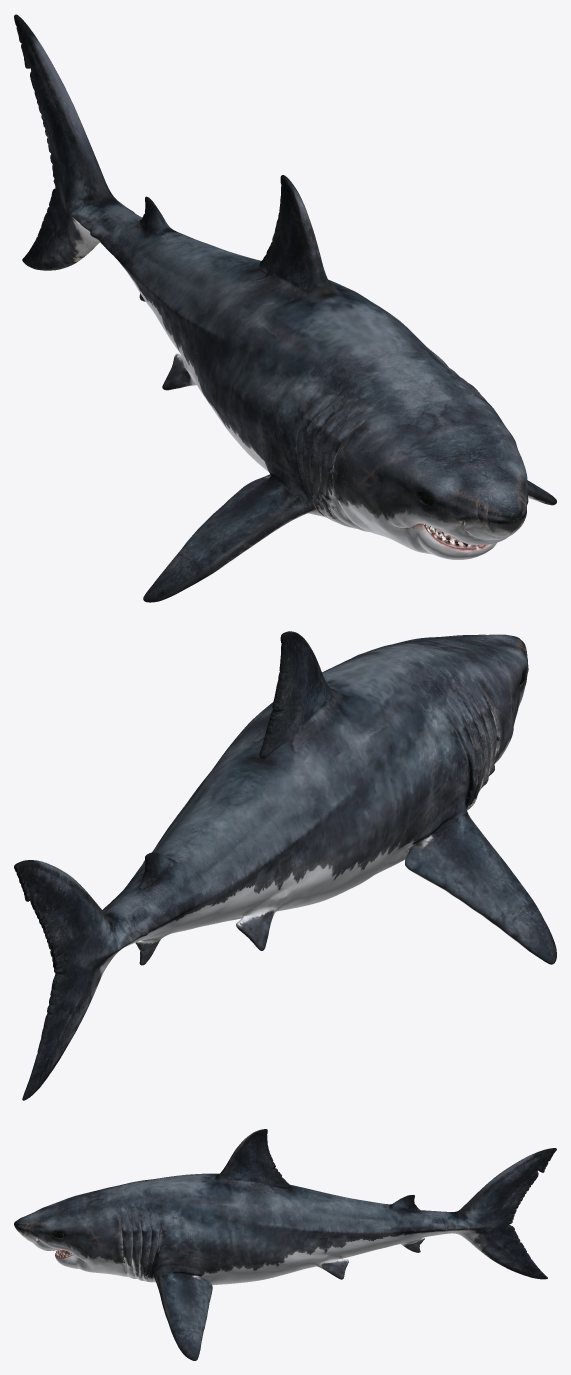
File: great-white-shark.glb
3 views of the same model, one above another, from view 1: azimuth 30°, elevation 25°; view 2: azimuth 150°, elevation 25°; view 3: azimuth 270°, elevation 25° (orthographic). The views are drawn at different scales.
Parts seen in each view (by area): view 1: great-white-shark; view 2: great-white-shark; view 3: great-white-shark.
Part boxes in pixels (<box>): great-white-shark: <box>14,14,556,602</box>; great-white-shark: <box>14,631,556,1100</box>; great-white-shark: <box>14,1129,556,1360</box>.
Size of the model in its own units: 2.36 by 1.81 by 5.
1 material, 1 textured.
